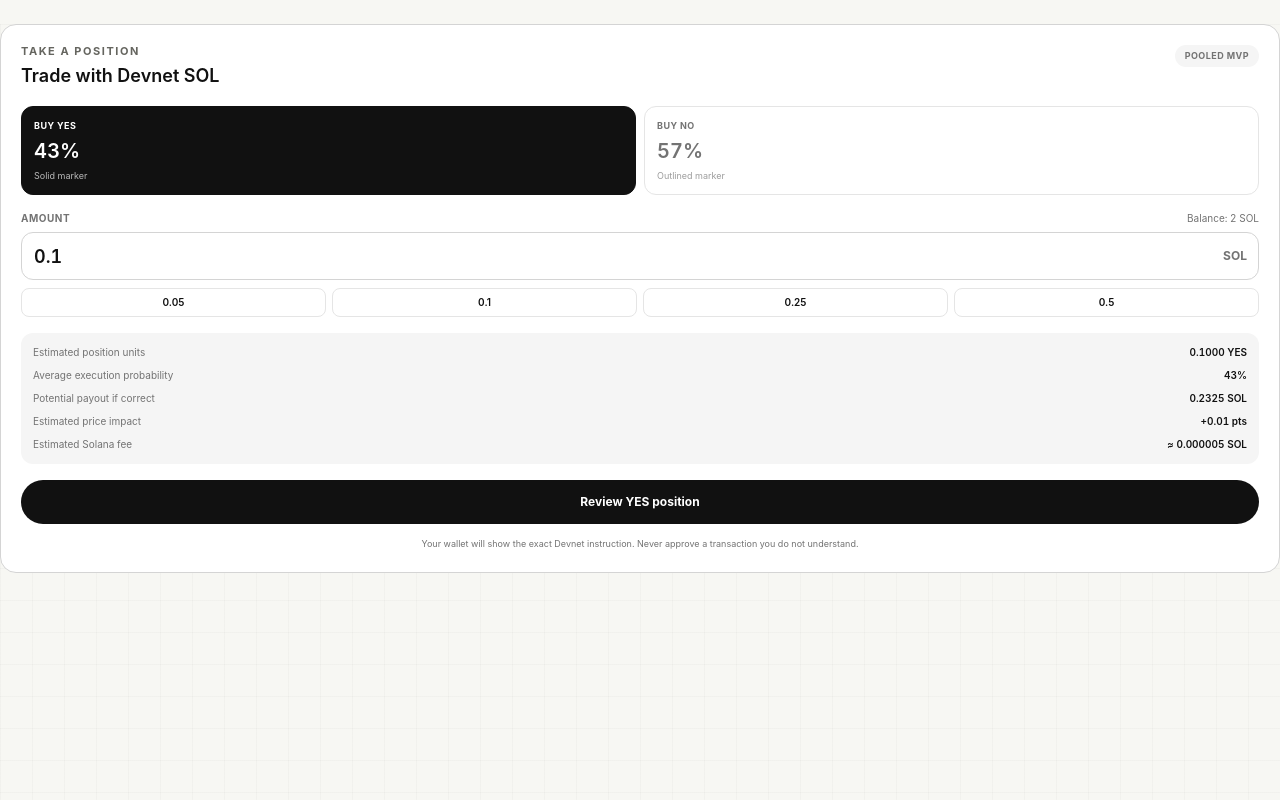
prediction purchase controls › displays a useful failed transaction state
Click the button with test id "review-transaction": (640, 502) [21, 480, 1259, 524]
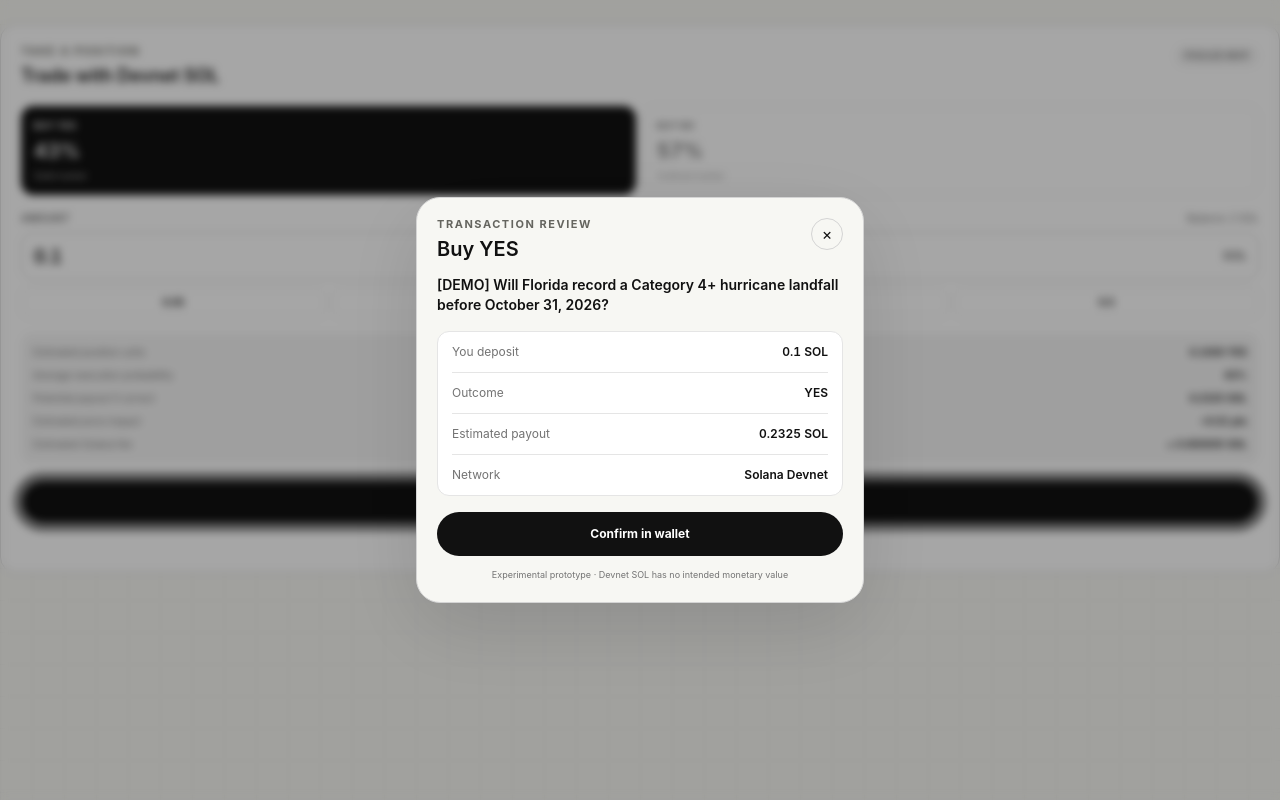
Click the button with test id "confirm-transaction": (640, 534) [437, 512, 843, 556]
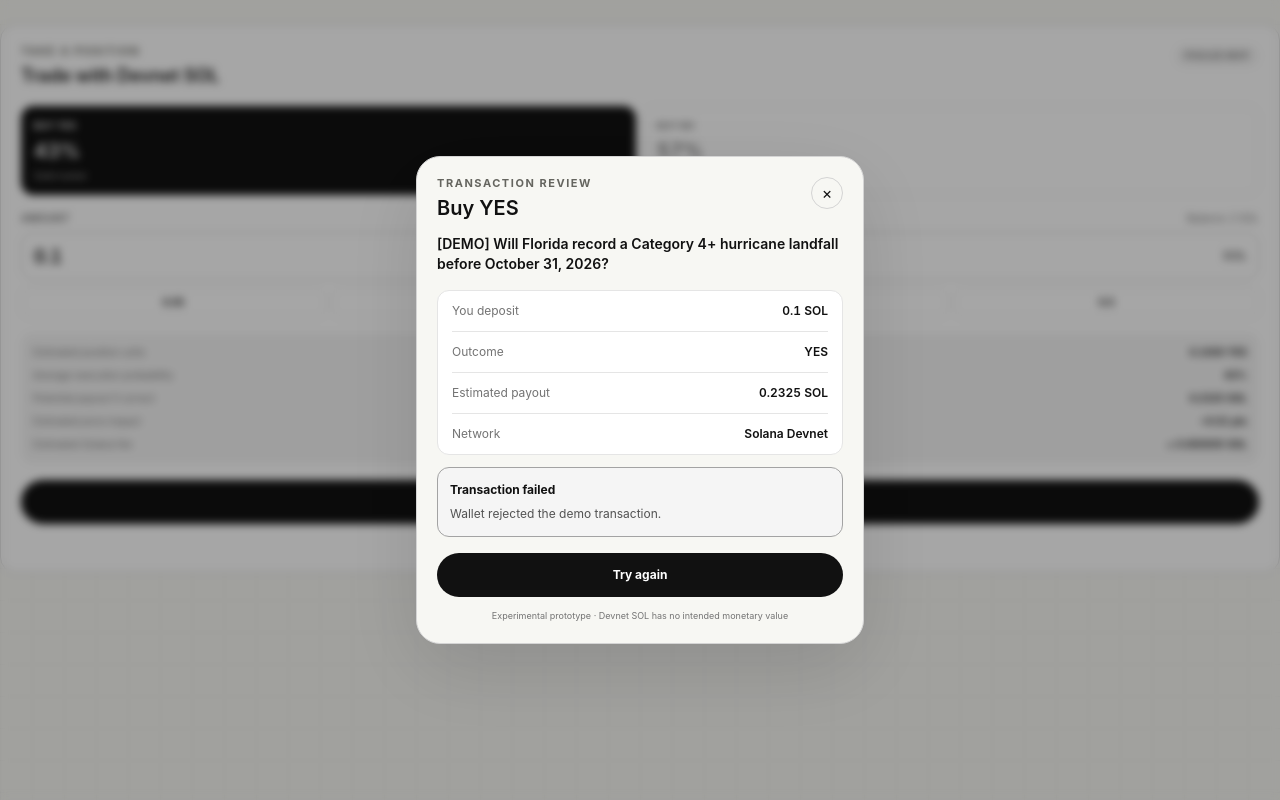
Now the text "Transaction failed" is shown, box [450, 482, 555, 497]
Now the text "Wallet rejected the demo transaction." is shown, box [450, 506, 661, 521]
